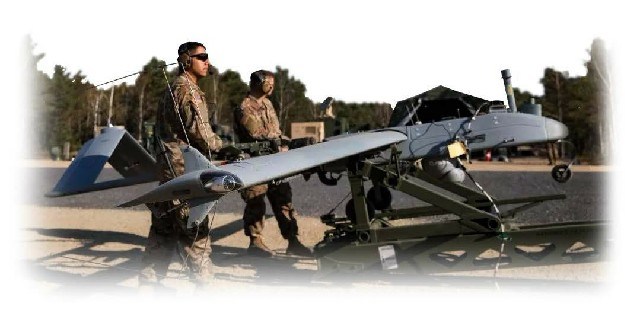maybay_khongnguoilai: (63, 81, 568, 235)
